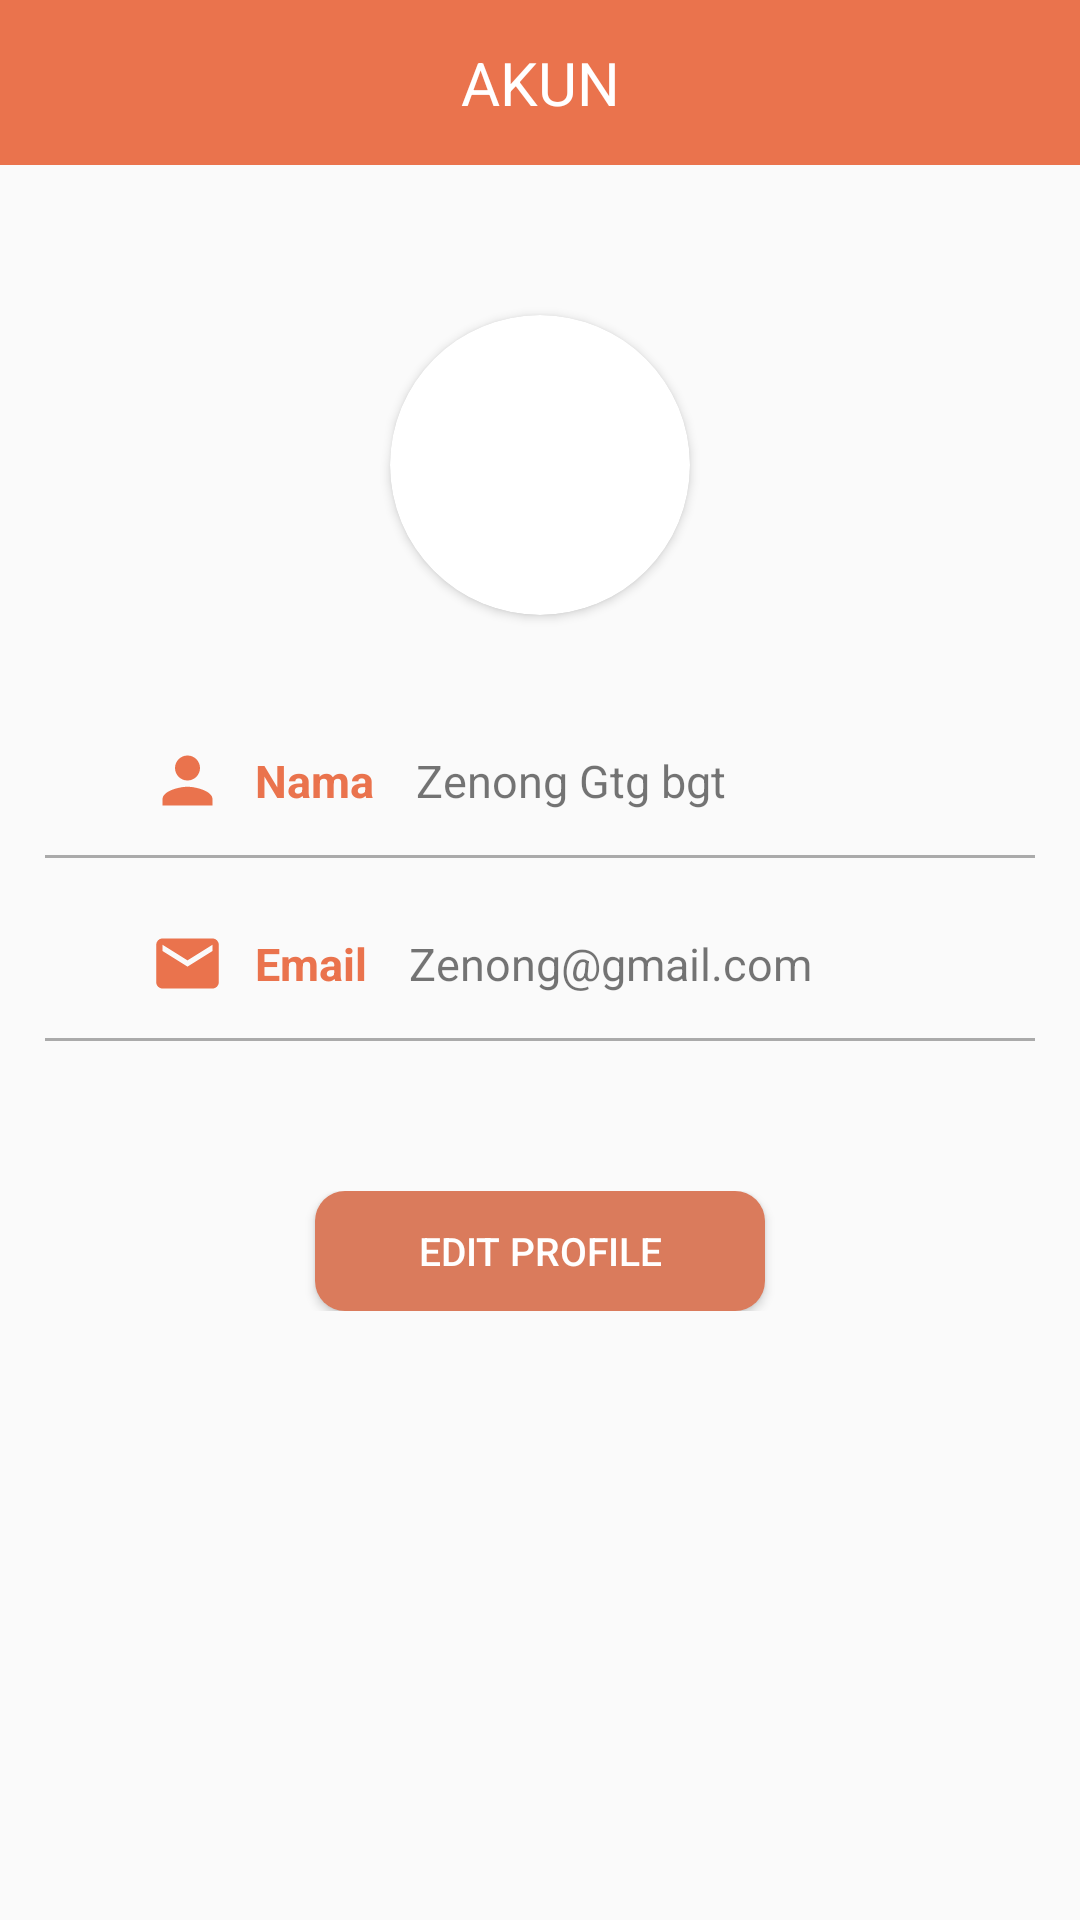

Screen size 1080px×1920px. Icon name, then its center in pixels as point (x, y):
person: point (187, 780)
